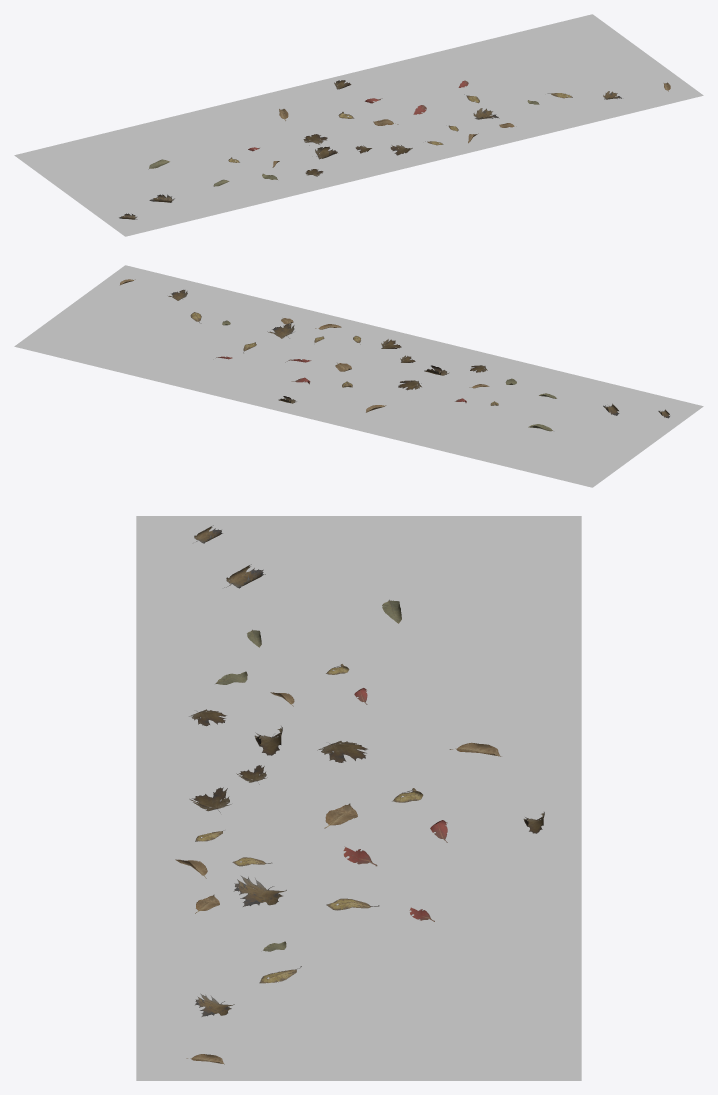
File: Leaves15.FBX
3 views of the same model, one above another, from view 1: azimuth 30°, elevation 25°; view 2: azimuth 150°, elevation 25°; view 3: azimuth 270°, elevation 25° (orthographic). The views are drawn at different scales.
Visible parts, largest first — view 1: Leaves15_Decal, Leaves15; view 2: Leaves15_Decal, Leaves15; view 3: Leaves15_Decal, Leaves15.
Part boxes in pixels (left/top/right/bottom): Leaves15_Decal: left=14, top=14, right=703, bottom=236; Leaves15: left=119, top=80, right=670, bottom=219; Leaves15_Decal: left=14, top=265, right=703, bottom=487; Leaves15: left=120, top=279, right=669, bottom=431; Leaves15_Decal: left=136, top=516, right=581, bottom=1080; Leaves15: left=175, top=525, right=544, bottom=1064.
Size of the model in its own units: 3.3 by 0.0483 by 1.1.
